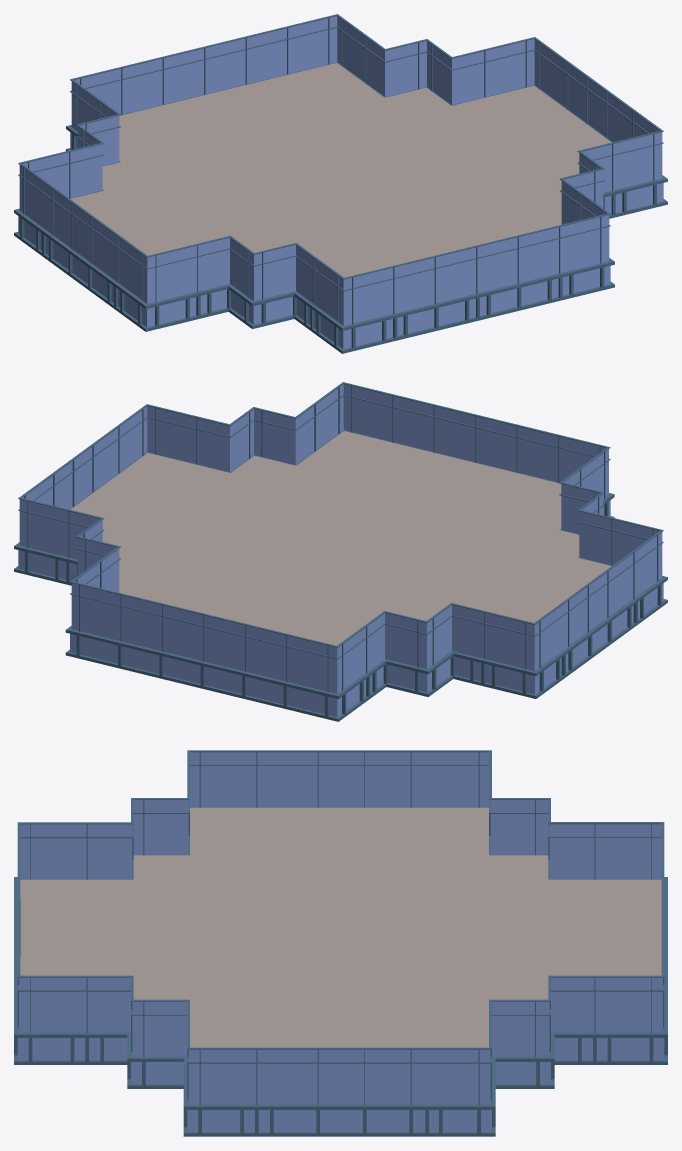
File: 04. Floor plans 4TH Floor 2021.10.06.glb
The picture shows the model from 3 angles, top to bottom: view 1: azimuth 30°, elevation 25°; view 2: azimuth 150°, elevation 25°; view 3: azimuth 270°, elevation 25°; orthographic projection. The views are drawn at different scales.
Visible parts, largest first — view 1: Floor plans 4TH Floor (1), Floor plans 4TH Floor Window Glass, Floor plans 4TH Floor Window Joinery; view 2: Floor plans 4TH Floor (1), Floor plans 4TH Floor Window Glass, Floor plans 4TH Floor Window Joinery; view 3: Floor plans 4TH Floor (1), Floor plans 4TH Floor Window Glass, Floor plans 4TH Floor Window Joinery.
Part boxes in pixels (x1=…): Floor plans 4TH Floor (1): x1=14, y1=62, x2=667, y2=353; Floor plans 4TH Floor Window Glass: x1=19, y1=16, x2=662, y2=325; Floor plans 4TH Floor Window Joinery: x1=18, y1=14, x2=663, y2=324; Floor plans 4TH Floor (1): x1=14, y1=430, x2=667, y2=721; Floor plans 4TH Floor Window Glass: x1=19, y1=384, x2=662, y2=693; Floor plans 4TH Floor Window Joinery: x1=18, y1=382, x2=663, y2=692; Floor plans 4TH Floor (1): x1=14, y1=807, x2=667, y2=1136; Floor plans 4TH Floor Window Glass: x1=19, y1=752, x2=662, y2=1104; Floor plans 4TH Floor Window Joinery: x1=17, y1=750, x2=664, y2=1104.
Size of the model in its own units: 38.44 by 5.14 by 35.21.
